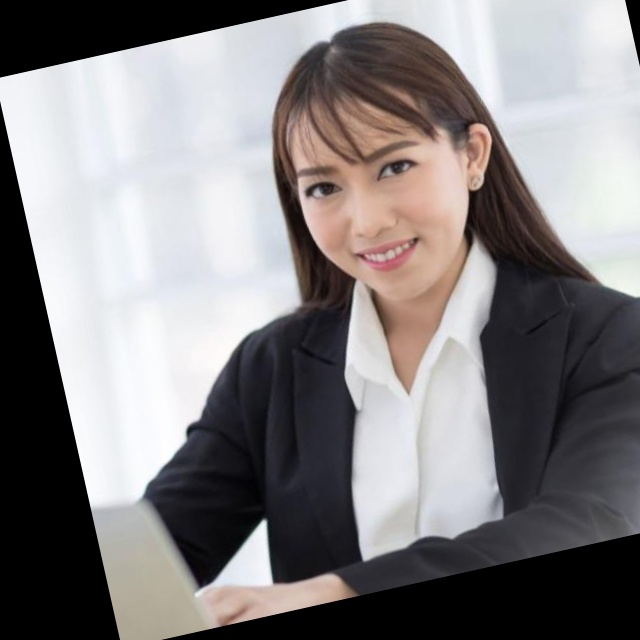Sin_Casco_Mascarrilla: (253, 4, 513, 314)
Sin_Chaleco: (205, 238, 640, 609)
